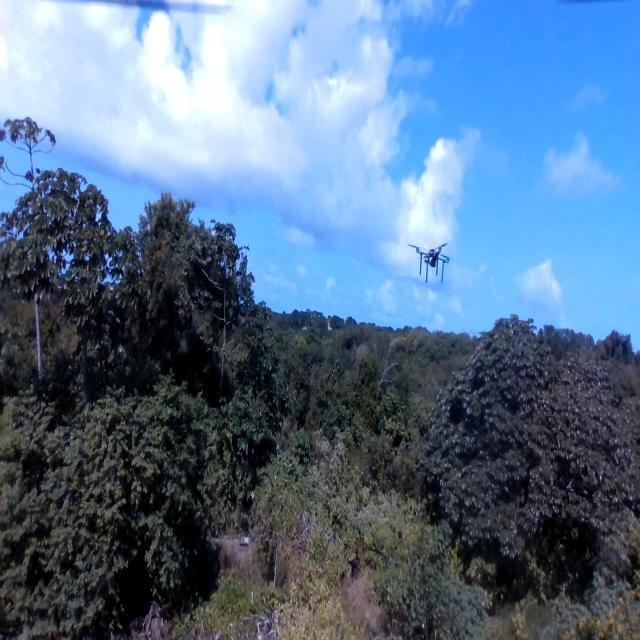-uav-: (401, 228, 464, 293)
